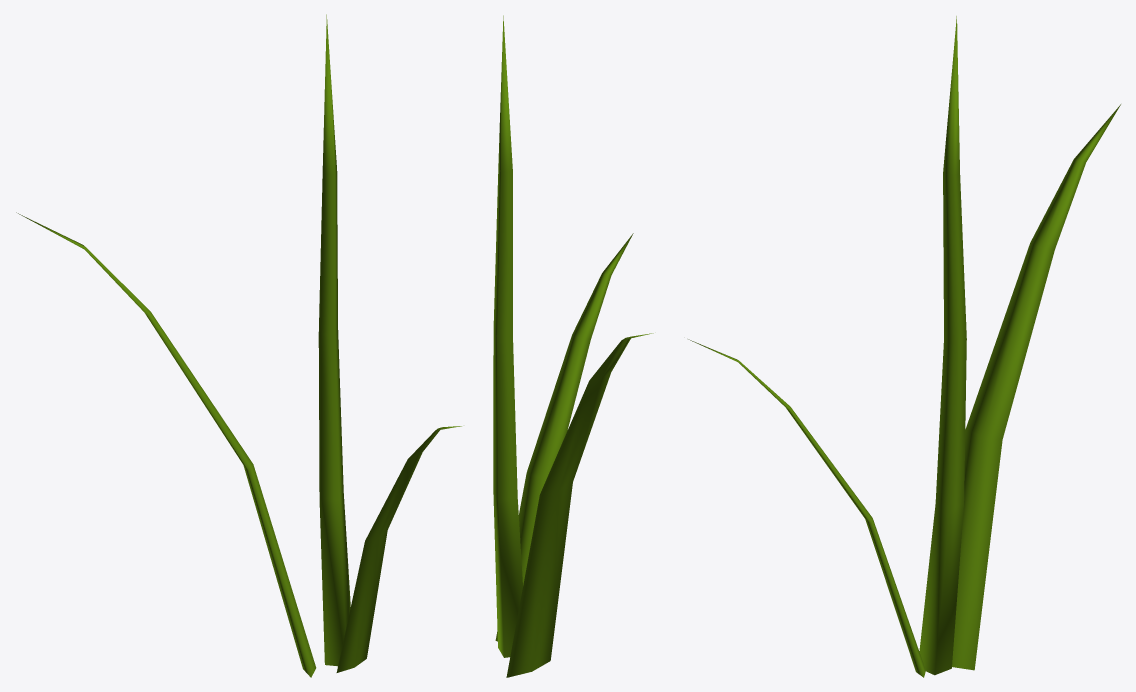
File: Early.fbx
3 renders of one model, left to right at view 1: azimuth 30°, elevation 25°; view 2: azimuth 150°, elevation 25°; view 3: azimuth 270°, elevation 25°, orthographic. The views are drawn at different scales.
Parts seen in each view (by area): view 1: Cube; view 2: Cube; view 3: Cube.
Boxes of the visible parts, left/top/right/bottom form: Cube: left=16, top=14, right=461, bottom=677; Cube: left=493, top=15, right=653, bottom=677; Cube: left=688, top=16, right=1120, bottom=677.
Size of the model in its own units: 0.0896 by 0.2173 by 0.1302.
